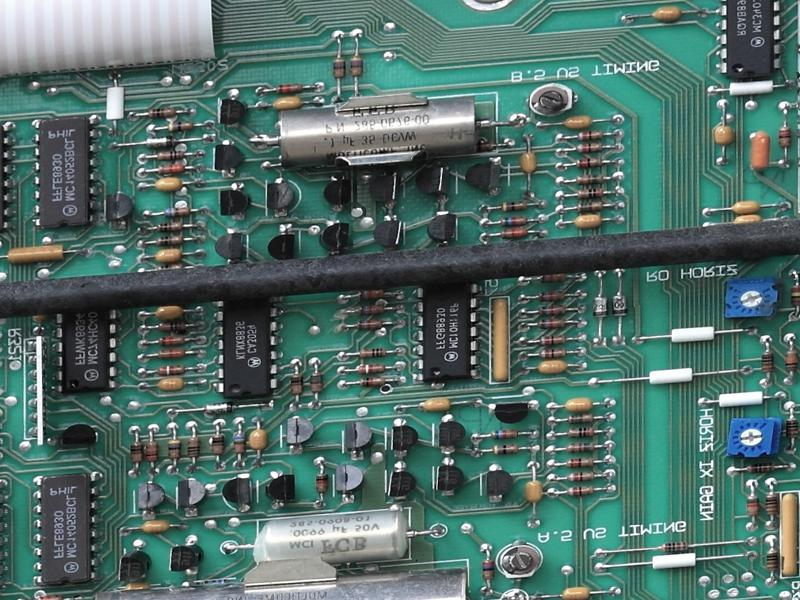Diode: (141, 133, 180, 149), (202, 400, 236, 415), (611, 293, 630, 319), (592, 295, 609, 320)
Resistor: (346, 51, 369, 81), (487, 427, 522, 443), (498, 198, 532, 214), (536, 303, 569, 319), (535, 289, 568, 305), (564, 440, 598, 455), (564, 425, 598, 440), (759, 347, 776, 377), (155, 348, 191, 362), (354, 362, 387, 377), (154, 320, 192, 333), (765, 545, 782, 574), (744, 492, 762, 519), (776, 124, 794, 151), (355, 288, 387, 303), (186, 433, 202, 463), (565, 455, 597, 470), (784, 344, 800, 374), (764, 490, 780, 520), (154, 334, 190, 347), (744, 462, 780, 475), (784, 414, 800, 443), (536, 334, 569, 348), (498, 227, 531, 241), (488, 443, 521, 457), (163, 204, 195, 218), (154, 233, 186, 247), (355, 346, 387, 360), (167, 437, 183, 465), (314, 470, 330, 498), (565, 412, 597, 426), (154, 163, 191, 175), (154, 363, 188, 376), (498, 215, 532, 228), (573, 157, 607, 170), (573, 187, 607, 200), (144, 438, 159, 467), (128, 438, 143, 467), (162, 120, 198, 132), (210, 431, 226, 458), (564, 471, 597, 484), (232, 429, 247, 457), (572, 174, 607, 186), (309, 369, 325, 395), (536, 348, 568, 361), (536, 317, 568, 330), (270, 82, 307, 93), (358, 374, 387, 388), (565, 485, 596, 498), (575, 142, 606, 155), (574, 130, 607, 142), (574, 201, 607, 213), (290, 371, 304, 399), (331, 55, 346, 81), (144, 106, 179, 117), (154, 262, 188, 273), (537, 273, 568, 285), (357, 305, 387, 317), (154, 222, 186, 233), (354, 320, 384, 331), (659, 542, 689, 553), (789, 282, 800, 310), (482, 558, 495, 581), (155, 151, 188, 160)
